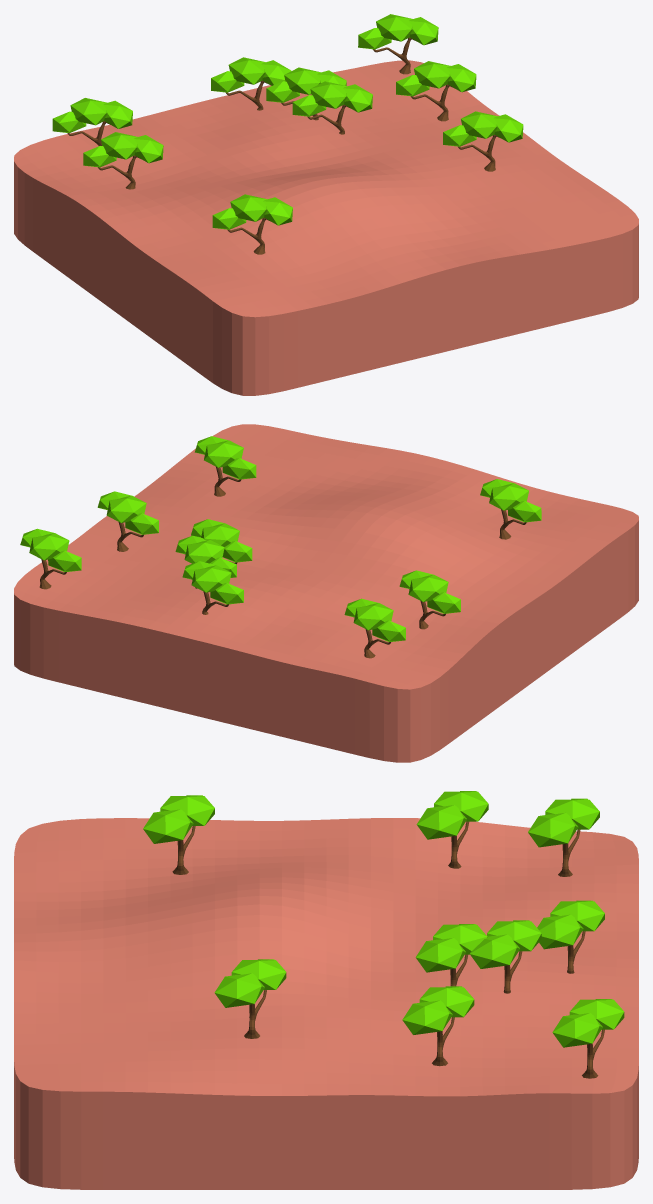
File: envfico.gltf
3 views of the same model, one above another, from view 1: azimuth 30°, elevation 25°; view 2: azimuth 150°, elevation 25°; view 3: azimuth 270°, elevation 25° (orthographic). The views are drawn at different scales.
Visible parts, largest first — view 1: Plane, Vert.005, Vert.008, Vert.007, Vert.006, Vert.001, Vert.004, Vert, Vert.002, Vert.003; view 2: Plane, Vert.006, Vert.005, Vert.007, Vert.008, Vert, Vert.001, Vert.002, Vert.004, Vert.003; view 3: Plane, Vert.008, Vert.007, Vert.005, Vert, Vert.006, Vert.001, Vert.003, Vert.002, Vert.004.
Part boxes in pixels (left/top/right/bottom): Plane: left=14, top=60, right=638, bottom=395; Vert.005: left=212, top=194, right=292, bottom=254; Vert.008: left=358, top=14, right=438, bottom=74; Vert.007: left=396, top=61, right=476, bottom=121; Vert.006: left=443, top=111, right=523, bottom=171; Vert.001: left=83, top=132, right=163, bottom=189; Vert.004: left=292, top=81, right=372, bottom=134; Vert: left=52, top=98, right=132, bottom=145; Vert.002: left=211, top=57, right=291, bottom=110; Vert.003: left=266, top=67, right=346, bottom=120; Plane: left=14, top=424, right=638, bottom=762; Vert.006: left=194, top=436, right=256, bottom=496; Vert.005: left=480, top=479, right=541, bottom=539; Vert.007: left=97, top=491, right=158, bottom=551; Vert.008: left=20, top=528, right=81, bottom=589; Vert: left=344, top=598, right=405, bottom=658; Vert.001: left=399, top=570, right=460, bottom=629; Vert.002: left=182, top=561, right=243, bottom=614; Vert.004: left=191, top=519, right=252, bottom=564; Vert.003: left=175, top=535, right=236, bottom=588; Plane: left=14, top=818, right=638, bottom=1189; Vert.008: left=552, top=999, right=624, bottom=1078; Vert.007: left=402, top=986, right=474, bottom=1066; Vert.005: left=143, top=795, right=214, bottom=874; Vert: left=528, top=798, right=599, bottom=876; Vert.006: left=214, top=959, right=286, bottom=1038; Vert.001: left=416, top=791, right=488, bottom=868; Vert.003: left=470, top=920, right=541, bottom=993; Vert.002: left=537, top=900, right=604, bottom=973; Vert.004: left=415, top=924, right=487, bottom=986.
Size of the model in its own units: 17.28 by 5.45 by 17.28.
